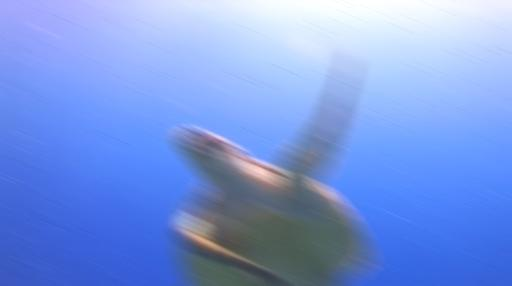Fish: (176, 51, 369, 285)
